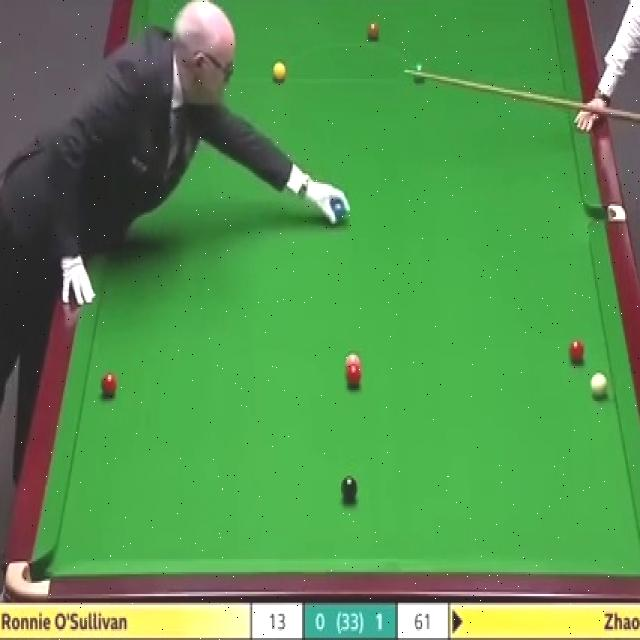black-ball: (340, 475, 359, 504)
blue-ball: (330, 198, 345, 220)
brown-ball: (366, 21, 380, 42)
green-ball: (412, 61, 426, 83)
pink-ball: (344, 353, 362, 368)
red-ball: (566, 338, 585, 365), (101, 370, 118, 399), (344, 365, 362, 388)
white-ball: (589, 372, 607, 400)
yellow-ball: (273, 62, 286, 83)
